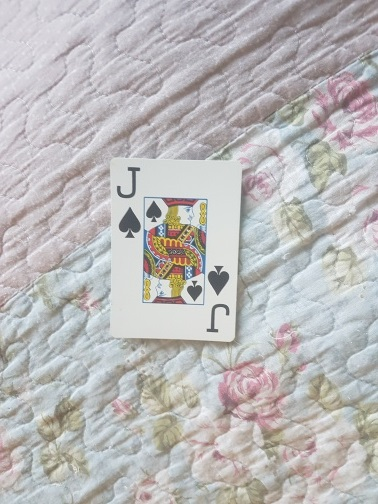jack: (110, 158, 241, 346)
